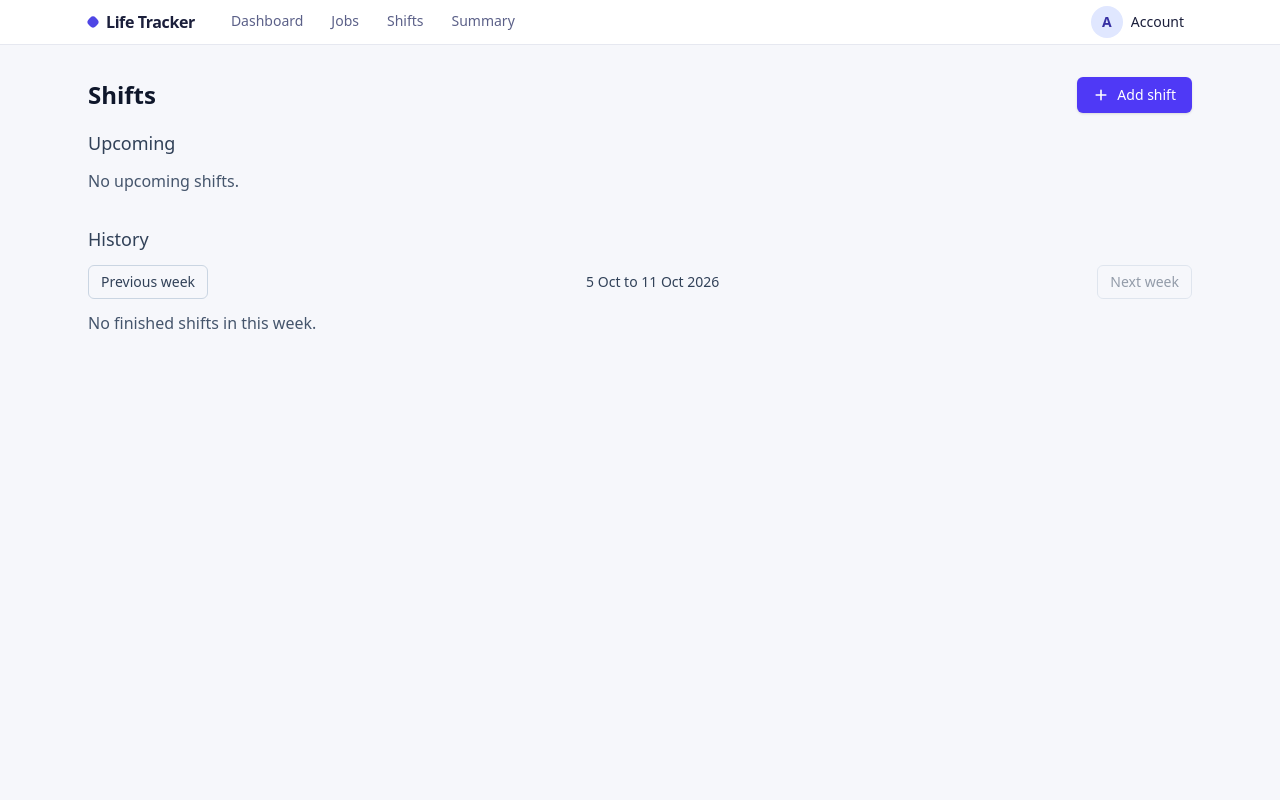
Test: ShiftsPage › adds a shift, closes the dialog and reloads both lists
Expected: the text "No upcoming shifts." is shown, [88,170,239,192]
Click the button "Add shift".
click(1135, 95)  # box [1077,77,1192,113]
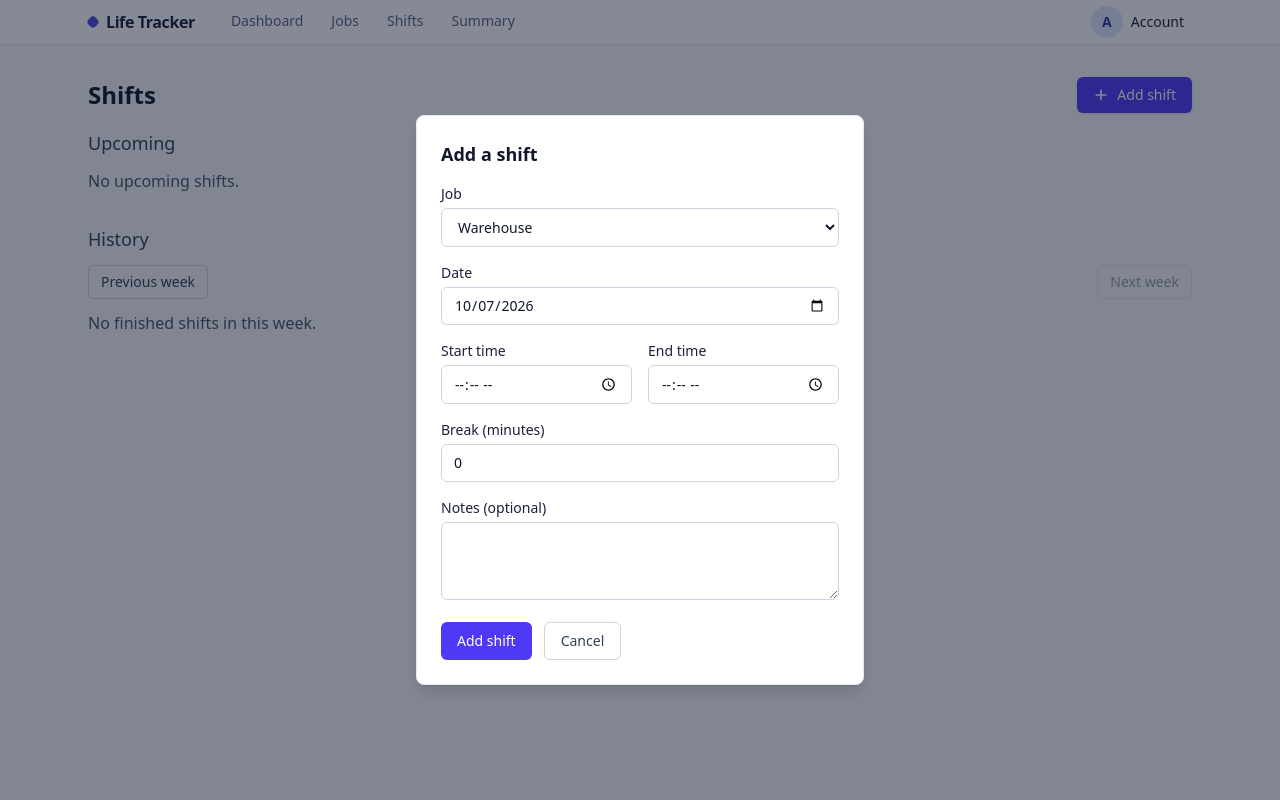
Select "Warehouse" in the dropdown labelled "Job" at (640, 228), box [441,208,839,247]
Type "09:00" into the time field labelled "Start time".
click(536, 385); type("09:00")  # box [441,365,632,404]
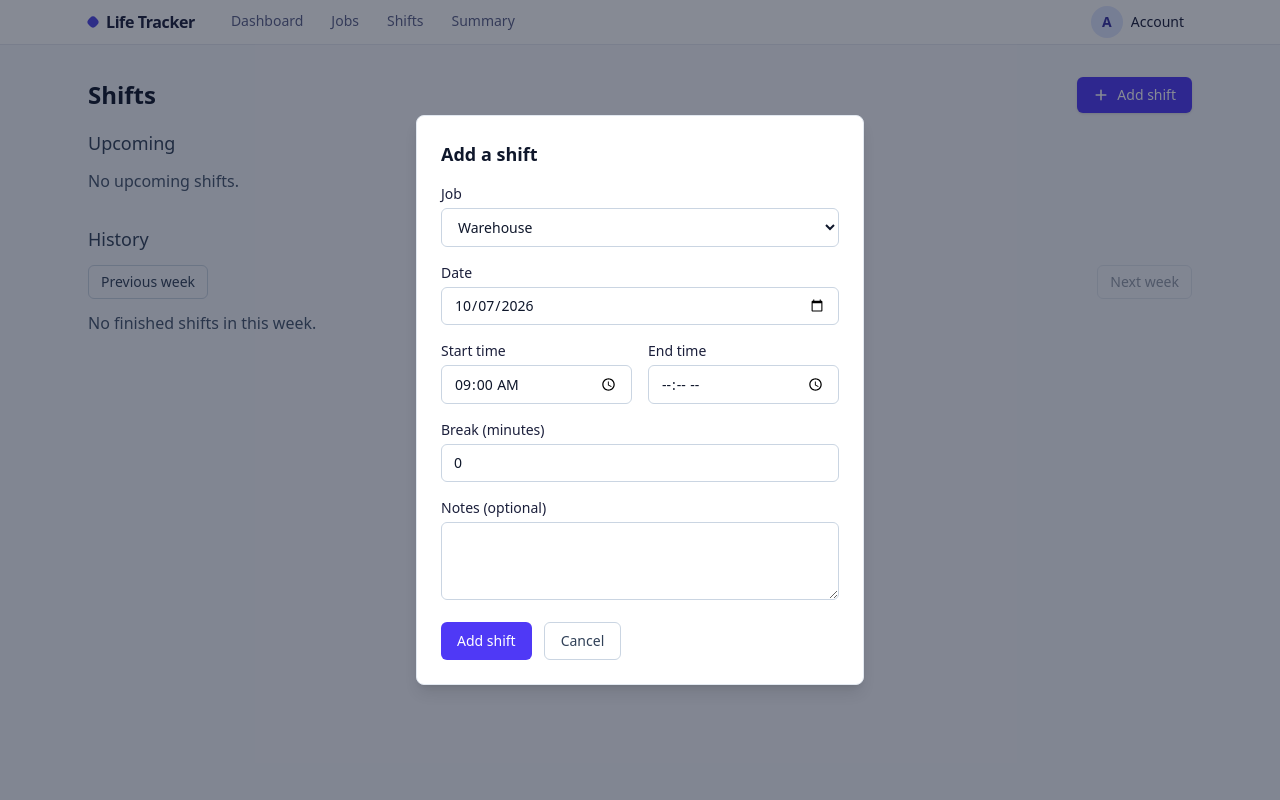
Type "17:00" into the time field labelled "End time".
click(744, 385); type("17:00")  # box [648,365,839,404]
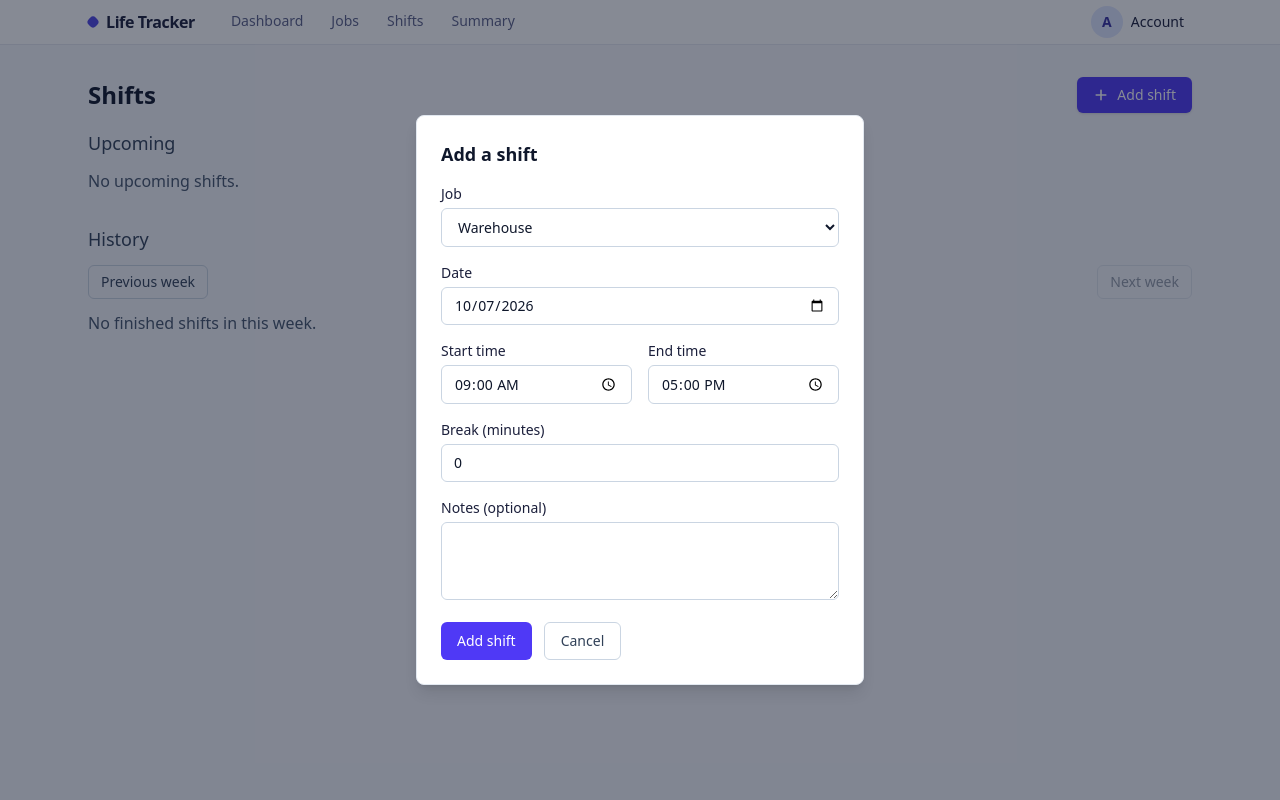
Click the button "Add shift".
click(486, 641)  # box [441,622,532,660]
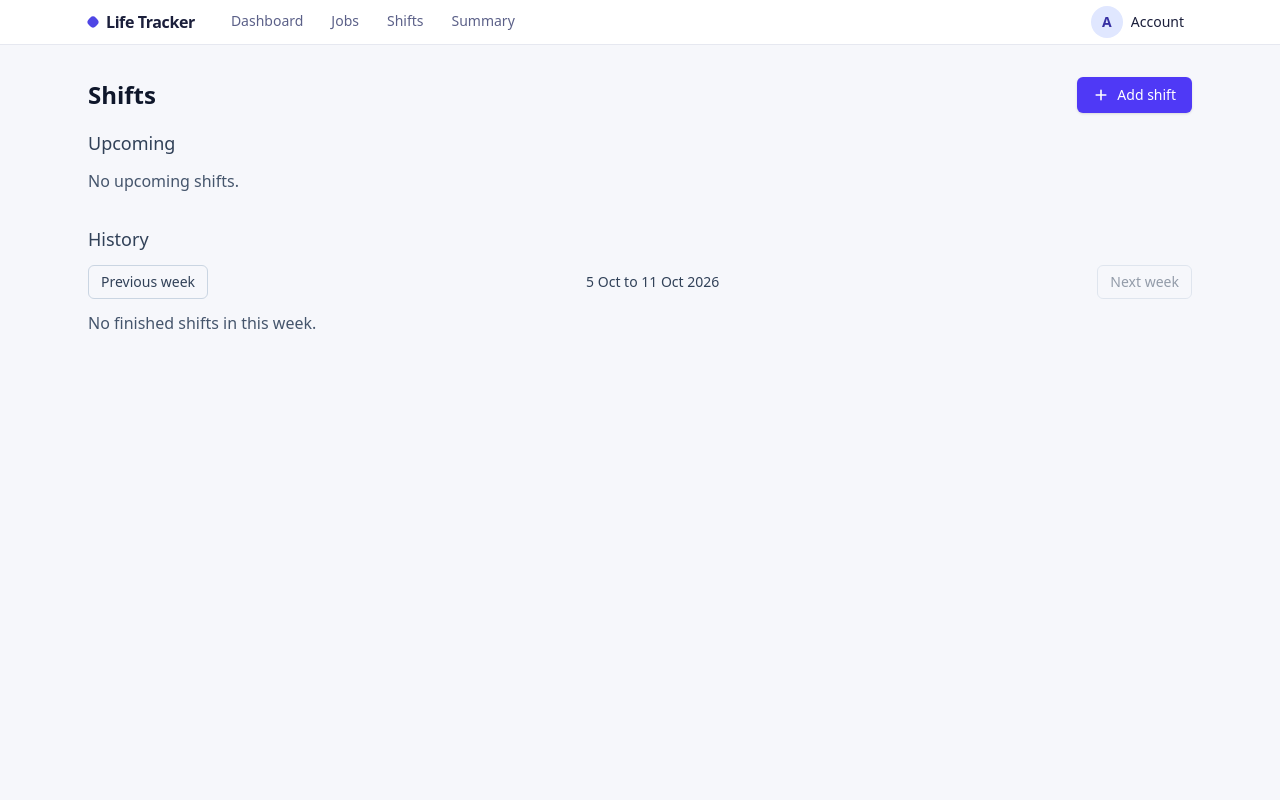
Expected: the dialog is gone
